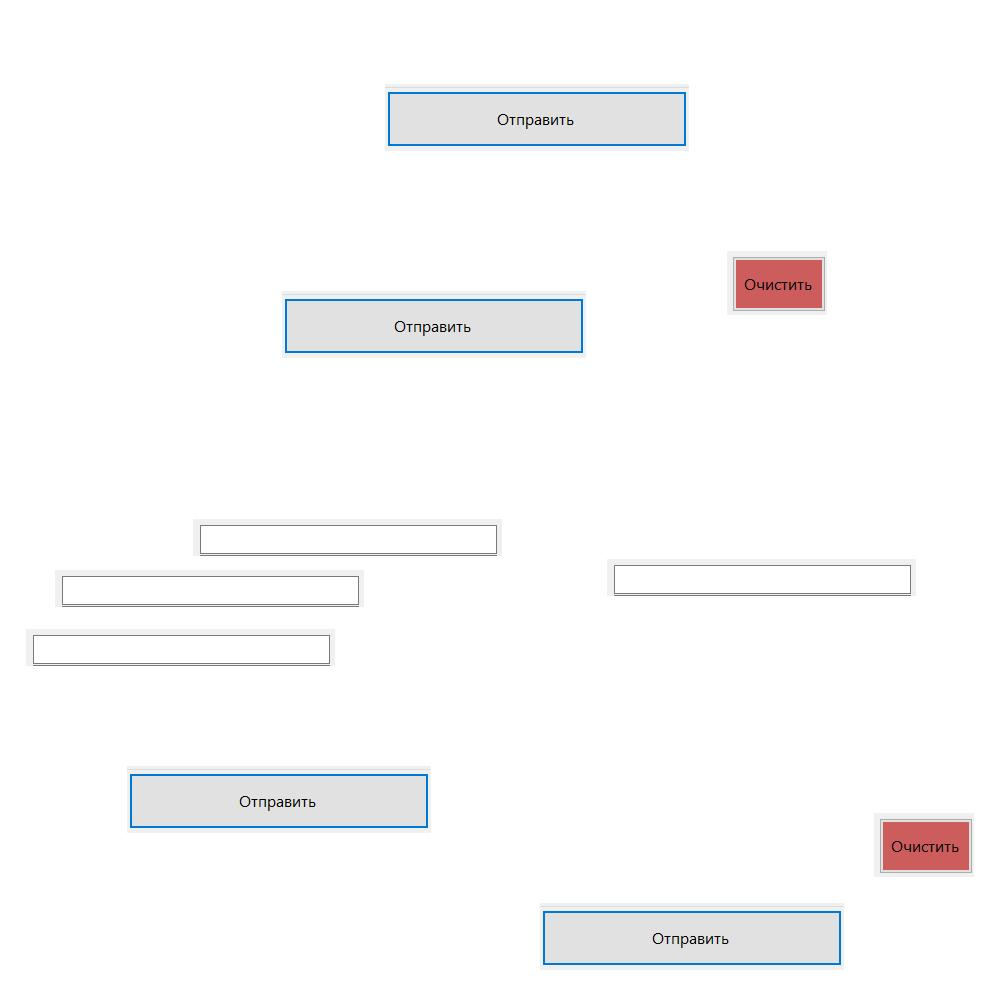Button: (540, 903, 844, 970), (282, 291, 586, 358), (127, 766, 431, 833), (385, 84, 689, 151), (874, 813, 974, 877), (727, 251, 827, 315)
EditText-: (607, 559, 916, 596), (55, 570, 364, 607), (193, 519, 502, 556), (26, 629, 335, 666)
